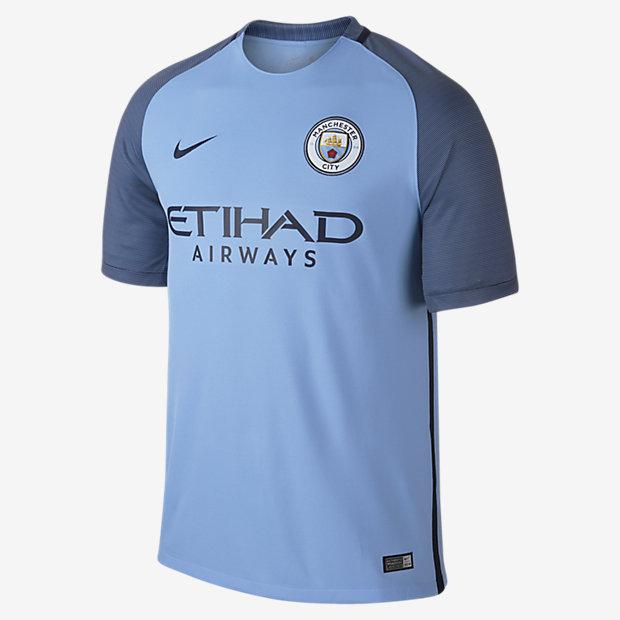teeshirt: (79, 10, 538, 620)
